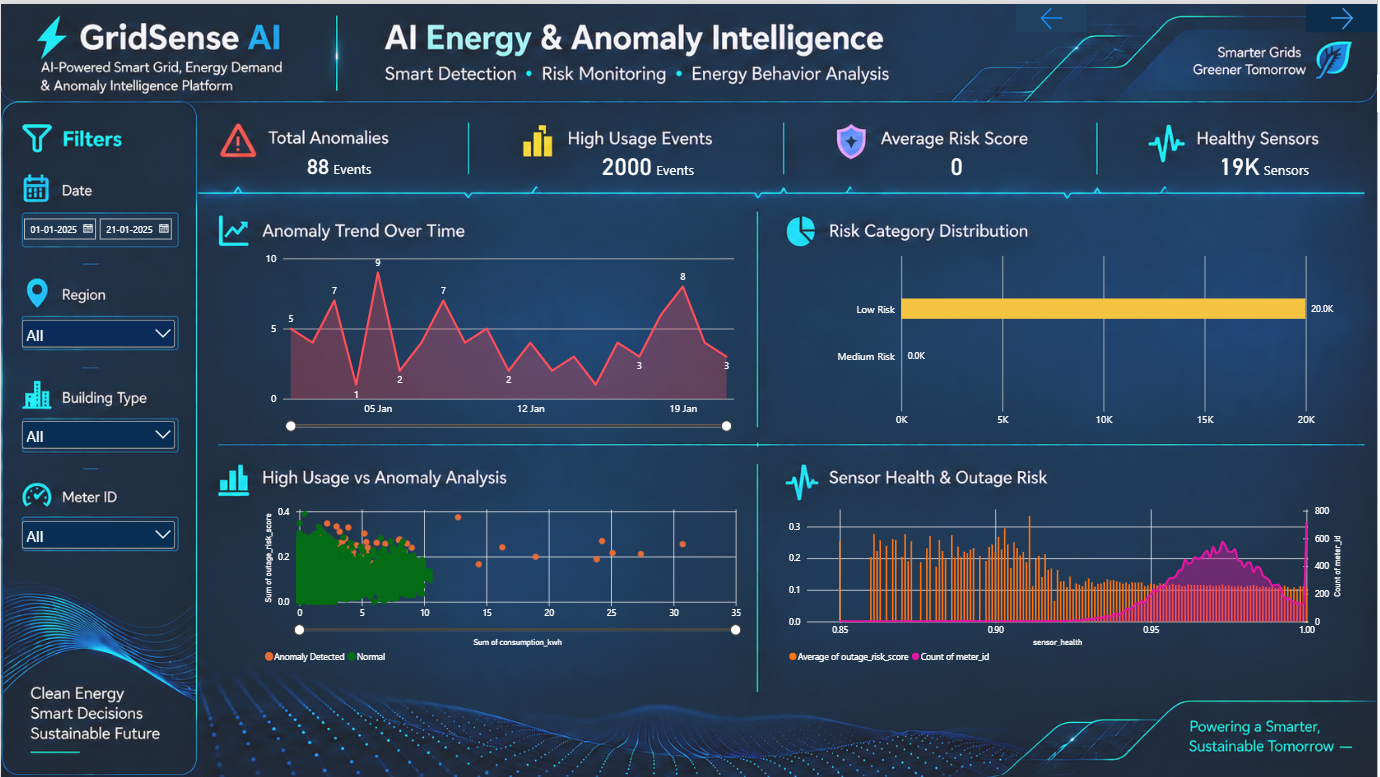

The page's visual inventory and layout, read from the dashboard file:
{"tool":"powerbi","page":{"name":"AI Energy & Anomaly Intelligence","canvas":[1920,1080],"ordinal":1},"visuals":[{"type":"areaChart","fields":{"Category":["smartgrid_cleaned.date"],"Y":["smartgrid_cleaned.Total Anomalies"]},"box":[352.3,329.7,695.9,280.8],"z":0},{"type":"clusteredBarChart","fields":{"Category":["smartgrid_cleaned.risk_category"],"Y":["CountNonNull(smartgrid_cleaned.risk_category)"]},"box":[1144.2,329.7,743,280.8],"z":1000},{"type":"scatterChart","fields":{"Category":["smartgrid_cleaned.Index"],"Series":["smartgrid_cleaned.anomaly_status"],"X":["Sum(smartgrid_cleaned.consumption_kwh)"],"Y":["Sum(smartgrid_cleaned.outage_risk_score)"]},"box":[352.3,683.7,695.9,256.4],"z":2000},{"type":"lineStackedColumnComboChart","fields":{"Category":["smartgrid_cleaned.sensor_health"],"Y":["Avg(smartgrid_cleaned.outage_risk_score)"],"Y2":["CountNonNull(smartgrid_cleaned.meter_id)"]},"box":[1083.1,683.7,804.1,256.4],"z":3000},{"type":"advanceCardE03760C5AB684758B56AA29F9E6C257B","fields":{"mainMeasure":["smartgrid_cleaned.Total Anomalies"]},"box":[352.3,195.3,239,66.3],"z":4000},{"type":"advanceCardE03760C5AB684758B56AA29F9E6C257B","fields":{"mainMeasure":["Sum(smartgrid_cleaned.high_usage_flag)"]},"box":[783.1,195.3,239,66.3],"z":5000},{"type":"advanceCardE03760C5AB684758B56AA29F9E6C257B","fields":{"mainMeasure":["smartgrid_cleaned.Average Risk Score"]},"box":[1214,195.3,239,66.3],"z":6000},{"type":"advanceCardE03760C5AB684758B56AA29F9E6C257B","fields":{"mainMeasure":["Sum(smartgrid_cleaned.sensor_health)"]},"box":[1653.5,195.3,218,66.3],"z":7000},{"type":"slicer","fields":{"Values":["smartgrid_cleaned.date"]},"box":[25.2,294,223.3,43.2],"z":8000},{"type":"slicer","fields":{"Values":["smartgrid_cleaned.region"]},"box":[25.2,435.9,223.3,46.8],"z":9000},{"type":"slicer","fields":{"Values":["smartgrid_cleaned.building_type"]},"box":[25.2,578.2,223.3,48.6],"z":10000},{"type":"slicer","fields":{"Values":["smartgrid_cleaned.meter_id"]},"box":[25.2,716.8,223.3,46.8],"z":11000},{"type":"actionButton","box":[1416.3,0,99.4,40.1],"z":12000},{"type":"actionButton","box":[1820.9,0,100,40],"z":13000}]}

Visuals, with their boxes in screenshot pixels (x1, y1, x2, y2), scaled from the page's 1920x1080 canvas onto the 1380x777 screenshot:
areaChart - smartgrid_cleaned.date x smartgrid_cleaned.Total Anomalies: select_region(253, 237, 753, 439)
clusteredBarChart - smartgrid_cleaned.risk_category x CountNonNull(smartgrid_cleaned.risk_category): select_region(822, 237, 1356, 439)
scatterChart - smartgrid_cleaned.Index x smartgrid_cleaned.anomaly_status: select_region(253, 492, 753, 676)
lineStackedColumnComboChart - smartgrid_cleaned.sensor_health x Avg(smartgrid_cleaned.outage_risk_score): select_region(778, 492, 1356, 676)
advanceCardE03760C5AB684758B56AA29F9E6C257B - smartgrid_cleaned.Total Anomalies: select_region(253, 141, 425, 188)
advanceCardE03760C5AB684758B56AA29F9E6C257B - Sum(smartgrid_cleaned.high_usage_flag): select_region(563, 141, 735, 188)
advanceCardE03760C5AB684758B56AA29F9E6C257B - smartgrid_cleaned.Average Risk Score: select_region(873, 141, 1044, 188)
advanceCardE03760C5AB684758B56AA29F9E6C257B - Sum(smartgrid_cleaned.sensor_health): select_region(1188, 141, 1345, 188)
slicer - smartgrid_cleaned.date: select_region(18, 212, 179, 243)
slicer - smartgrid_cleaned.region: select_region(18, 314, 179, 347)
slicer - smartgrid_cleaned.building_type: select_region(18, 416, 179, 451)
slicer - smartgrid_cleaned.meter_id: select_region(18, 516, 179, 549)
actionButton: select_region(1018, 0, 1089, 29)
actionButton: select_region(1309, 0, 1379, 29)
